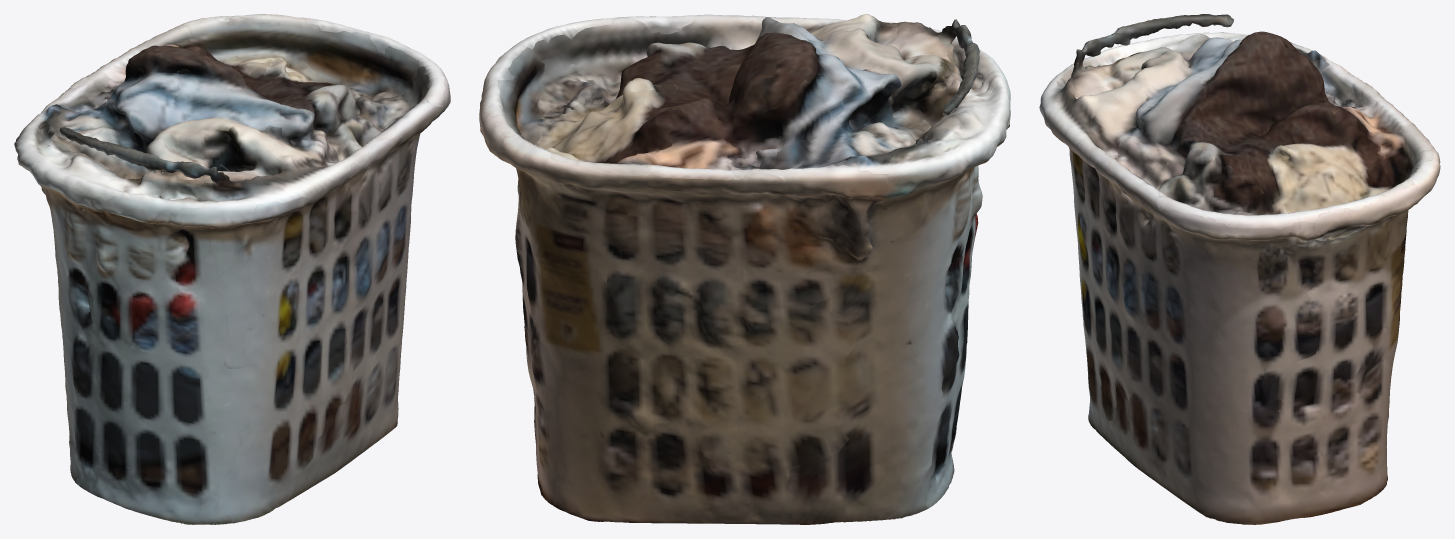
Rendered from korzina.gltf.
The picture shows the model from 3 angles, left to right: view 1: azimuth 30°, elevation 25°; view 2: azimuth 150°, elevation 25°; view 3: azimuth 270°, elevation 25°; orthographic projection. The views are drawn at different scales.
Parts seen in each view (by area): view 1: Sketchfab Model.013; view 2: Sketchfab Model.013; view 3: Sketchfab Model.013.
Boxes of the visible parts, x1,y1,x2,y2 form: Sketchfab Model.013: [14, 14, 450, 524]; Sketchfab Model.013: [479, 14, 1010, 524]; Sketchfab Model.013: [1039, 14, 1440, 524].
Bounding box in the file's own units: 1.42 × 1.33 × 1.25.
Materials: 1 (1 with a texture image).
